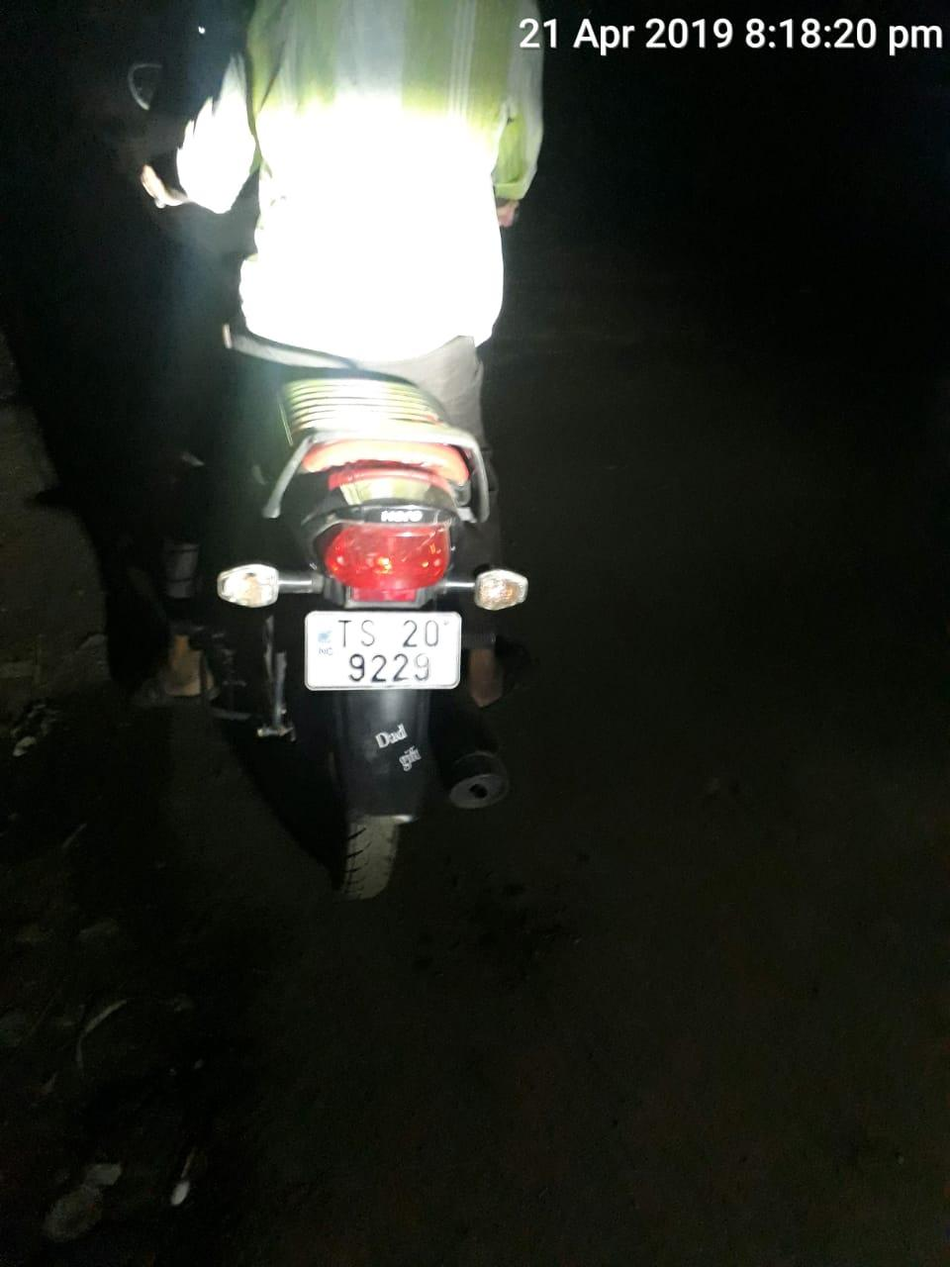plate: (285, 598, 473, 716)
